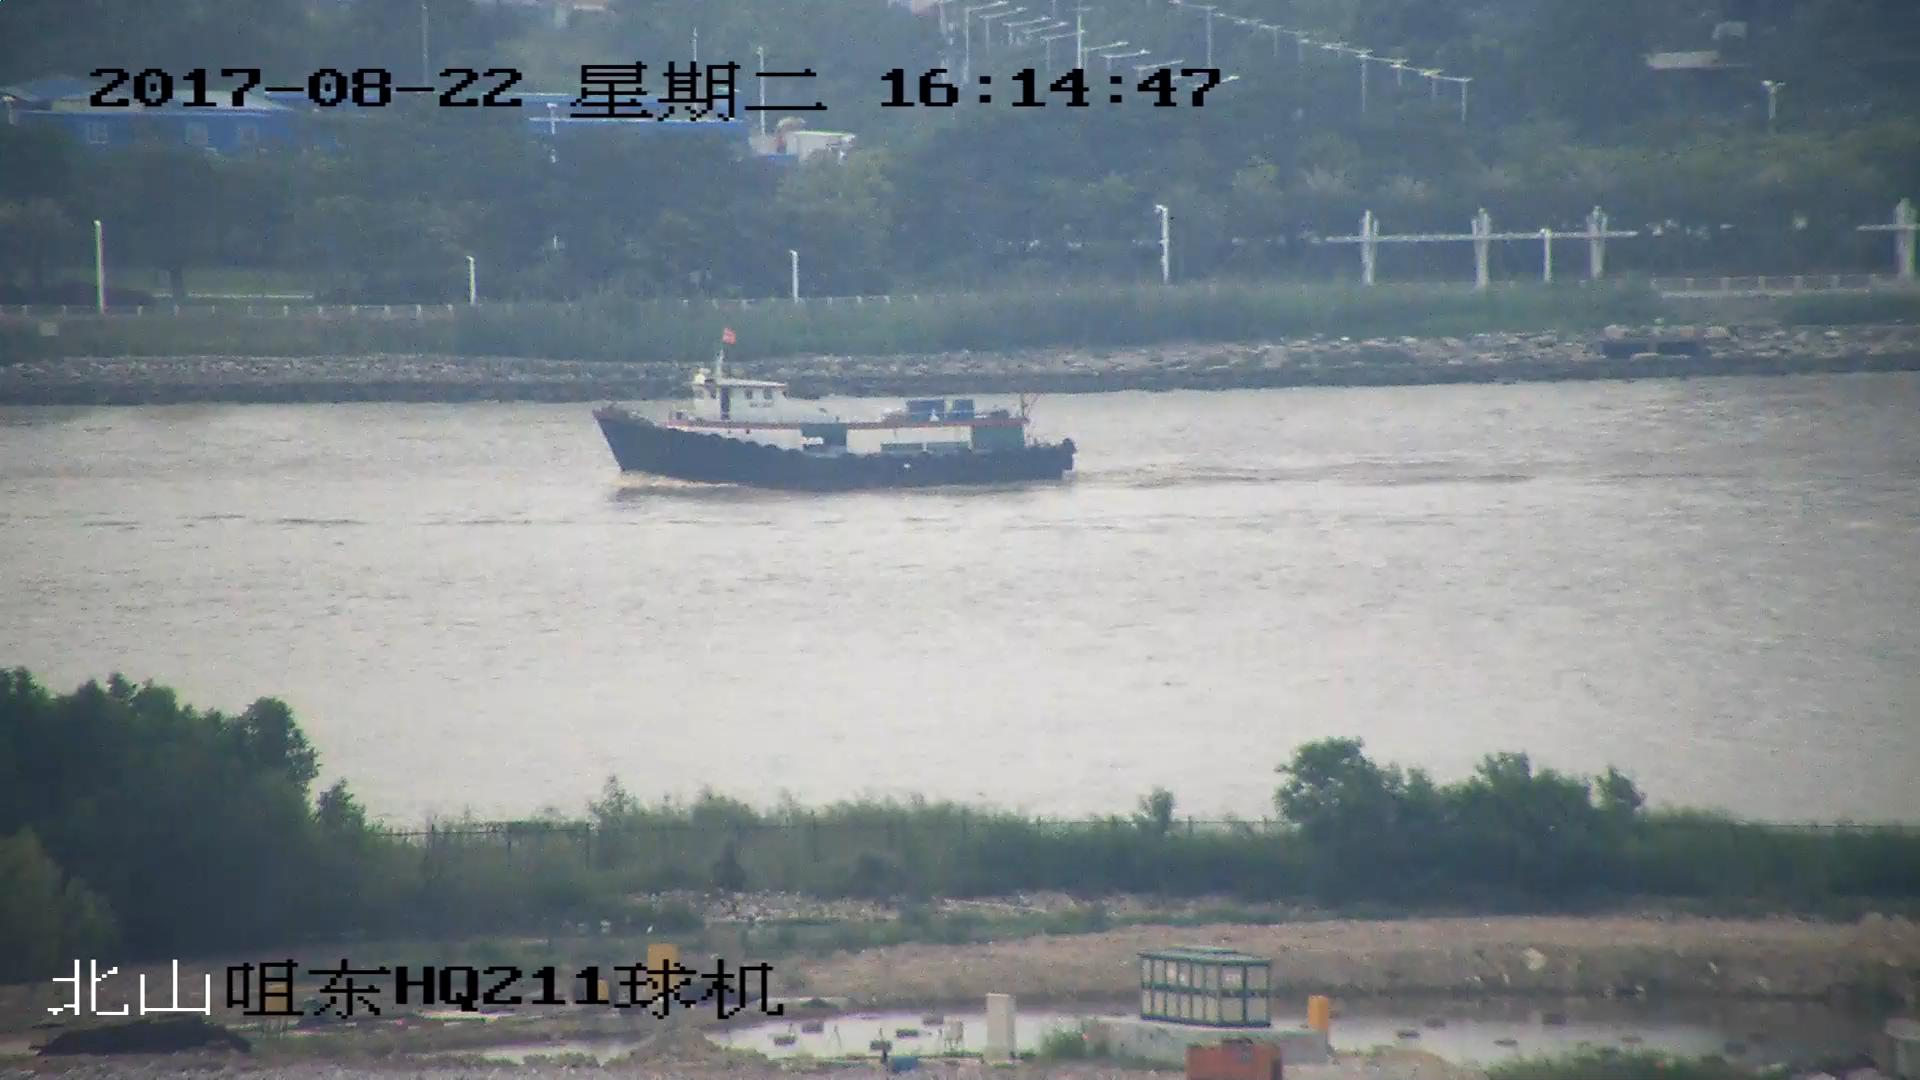fishing boat: (590, 331, 1073, 498)
